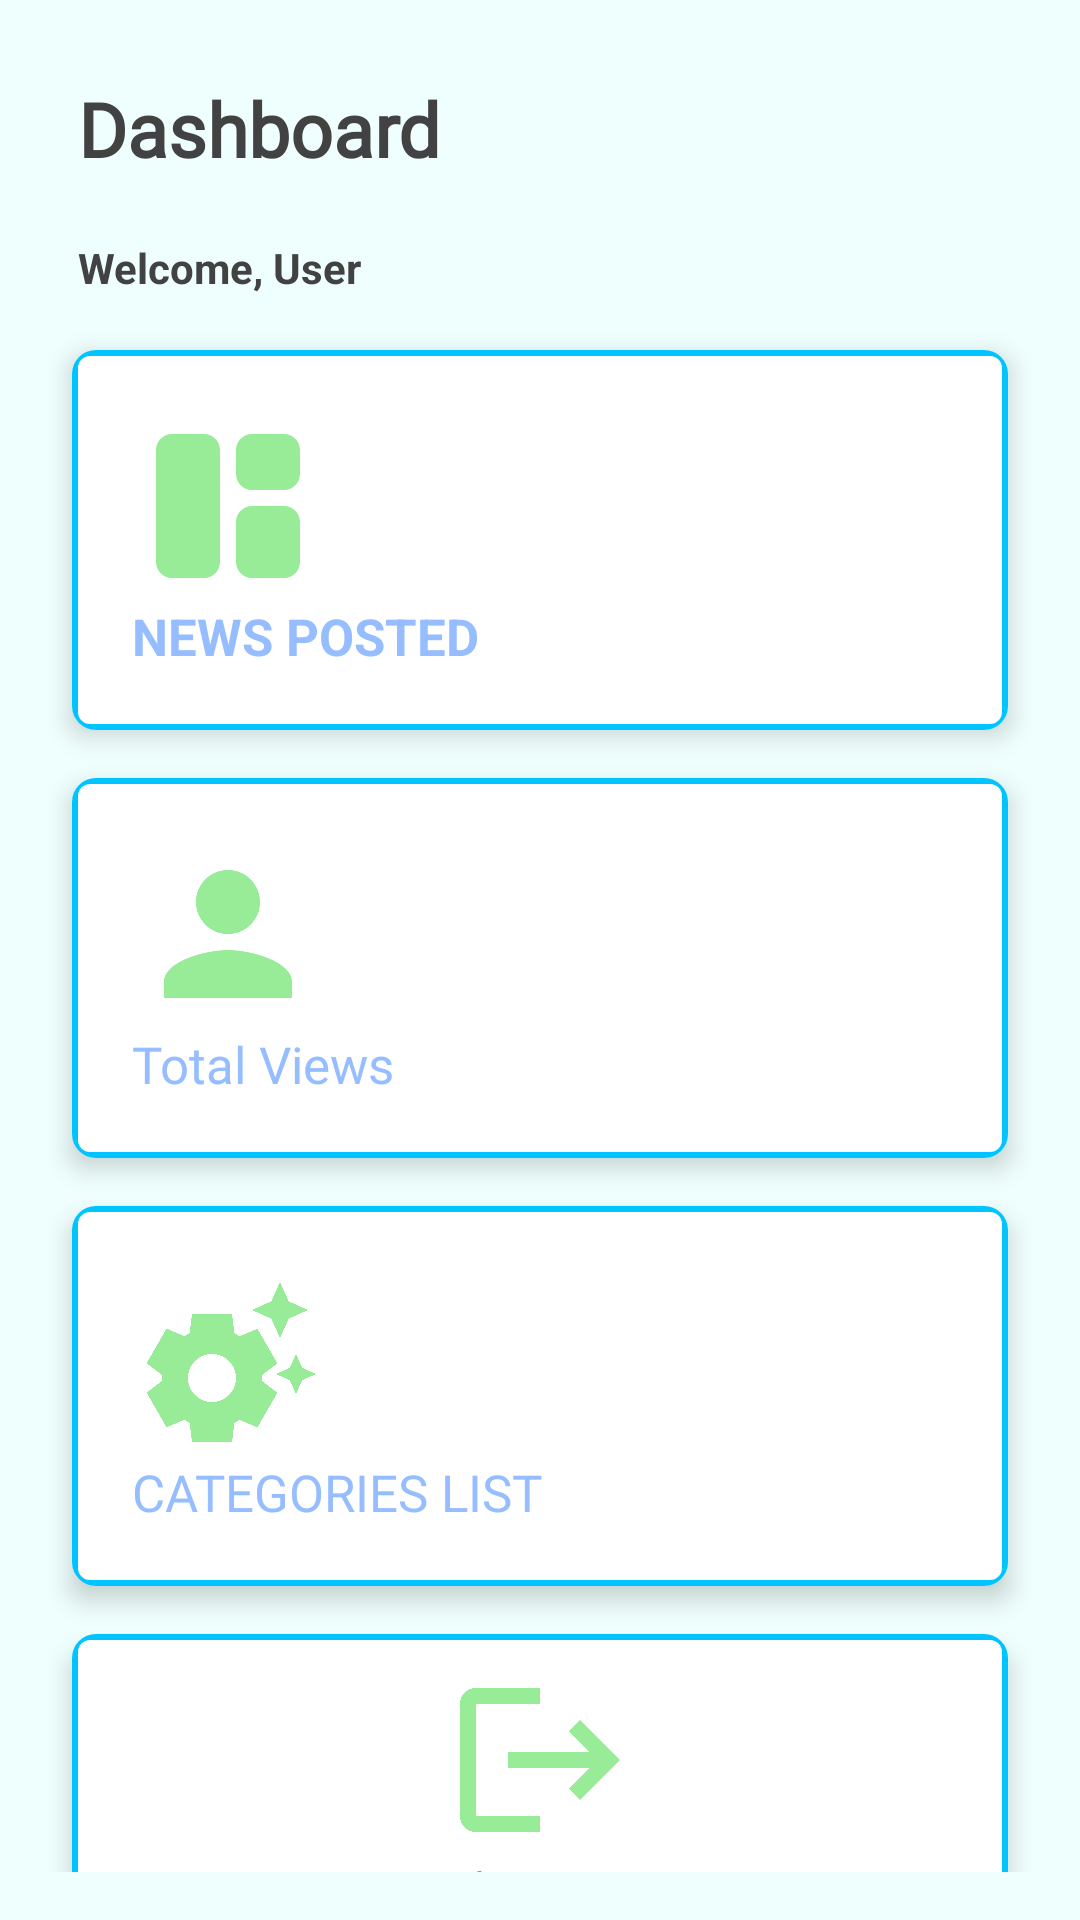

Icon click points for this 1080 × 1920 phone screenshot, format point (x, y):
DASHBOARD: point (228, 506)
PROFILE: point (228, 934)
SETTINGS: point (231, 1362)
